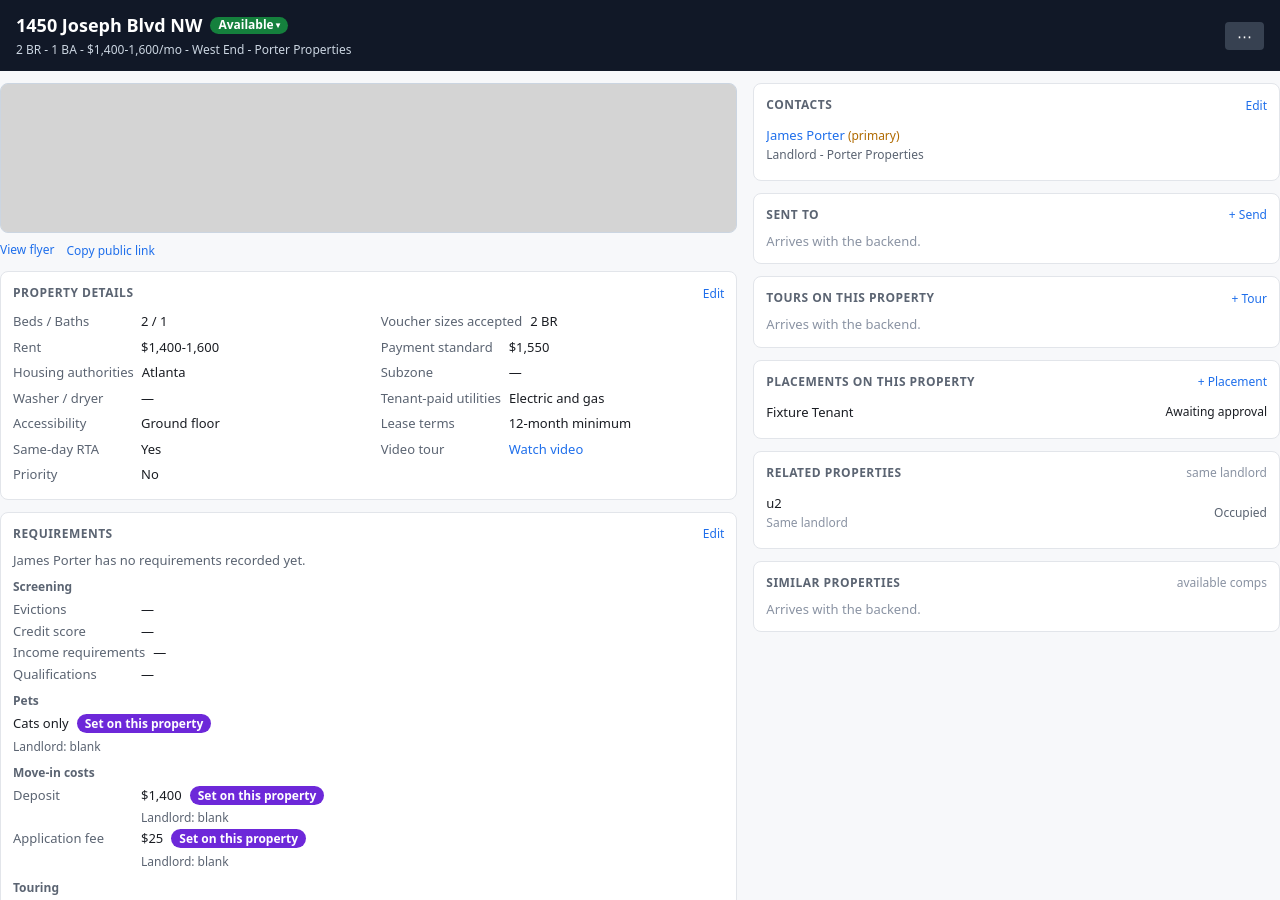
Test: ListingDetail › Tours card has a "+ Tour" action that opens Schedule-a-tour pre-committed to this property
The width and height of the screenshot is (1280, 900).
Click the button with aria-label "Schedule a tour on this property". click: (1249, 298)
box: [1232,290,1267,306]
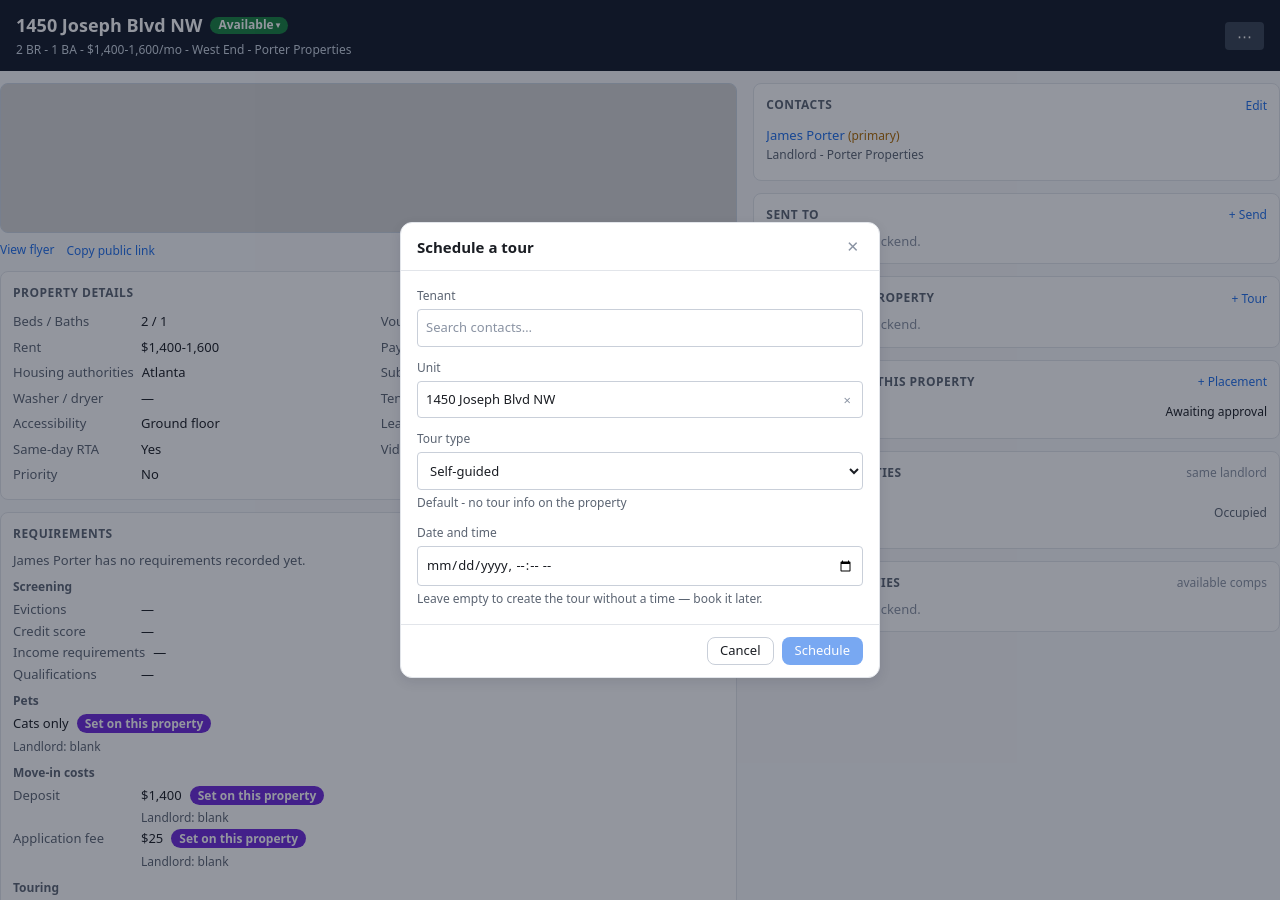
Now the dropdown named "Unit" holds "1450 Joseph Blvd NW", box [417,381,863,418]
Now the button named "Clear Unit" is shown, box [836,389,859,410]
Now the dropdown named "Tenant" is shown, box [417,309,863,347]
